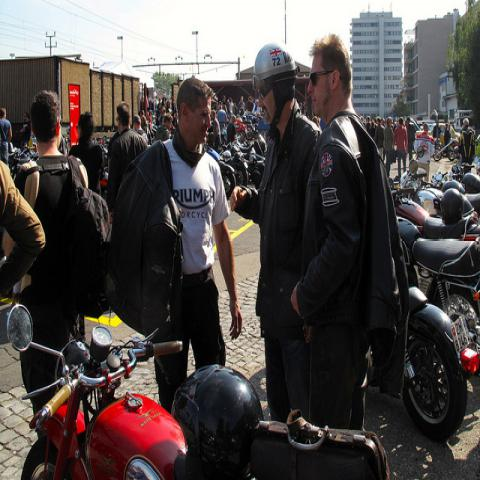motorcycle: (5, 134, 479, 479), (7, 299, 187, 479), (402, 285, 480, 443), (395, 216, 479, 351), (388, 158, 479, 241), (422, 171, 480, 210), (208, 148, 237, 201), (227, 140, 258, 184), (220, 142, 249, 188), (450, 161, 479, 196), (413, 186, 442, 218), (433, 128, 459, 162), (235, 118, 254, 139), (100, 134, 108, 169)
